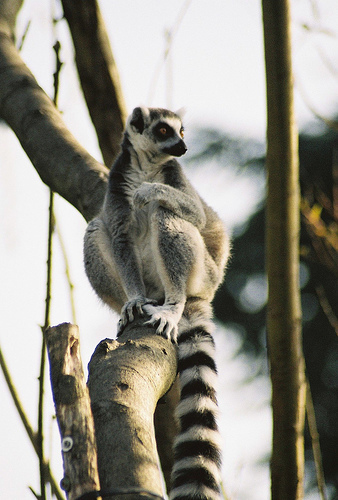cat: (83, 105, 235, 498)
